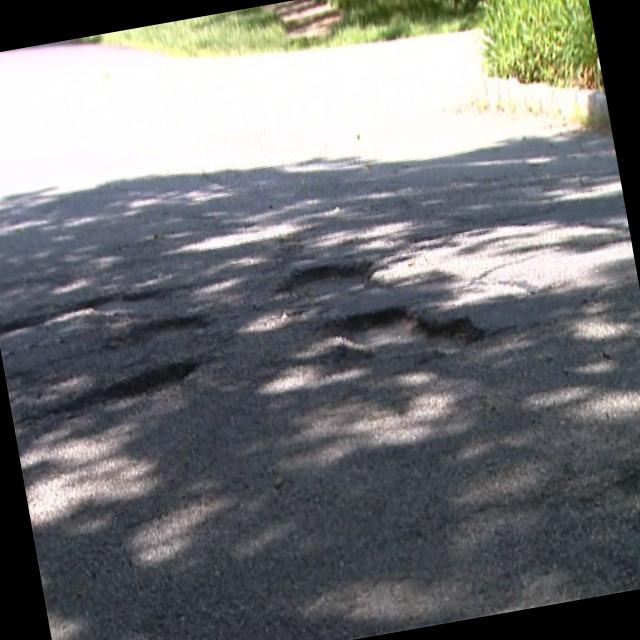Potholes: (0, 230, 260, 473), (259, 220, 472, 414)
